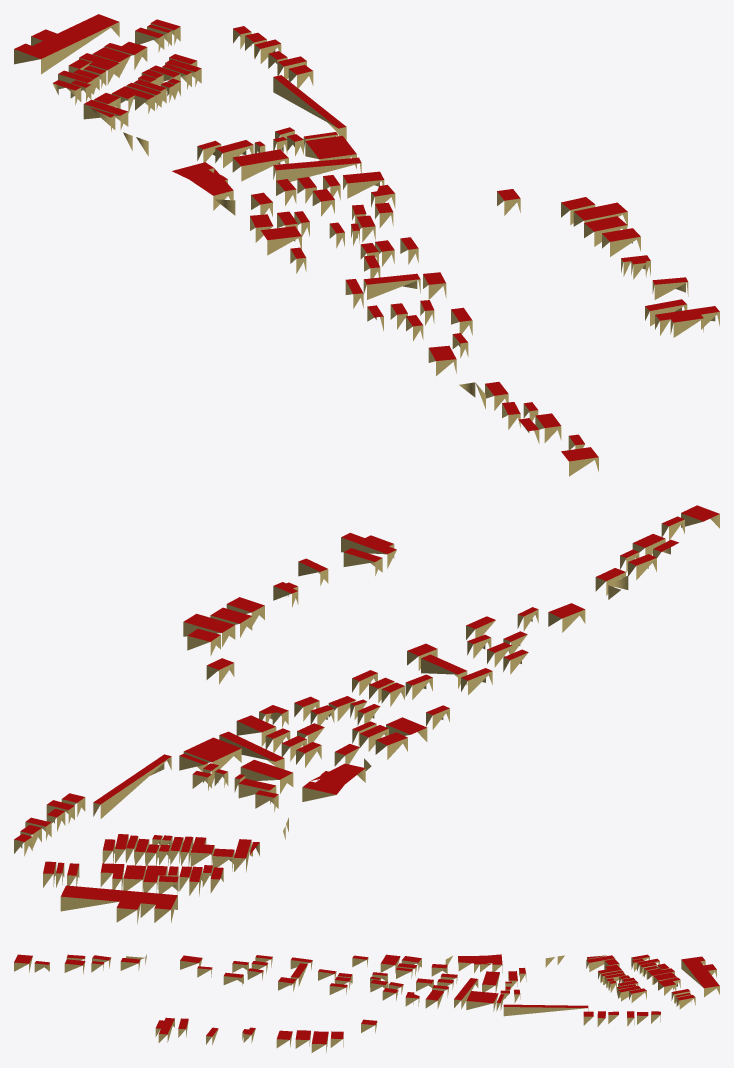
The picture shows the model from 3 angles, top to bottom: view 1: azimuth 30°, elevation 25°; view 2: azimuth 150°, elevation 25°; view 3: azimuth 270°, elevation 25°; orthographic projection. The views are drawn at different scales.
Bounding box in the file's own units: 156 × 7.5 × 510.
